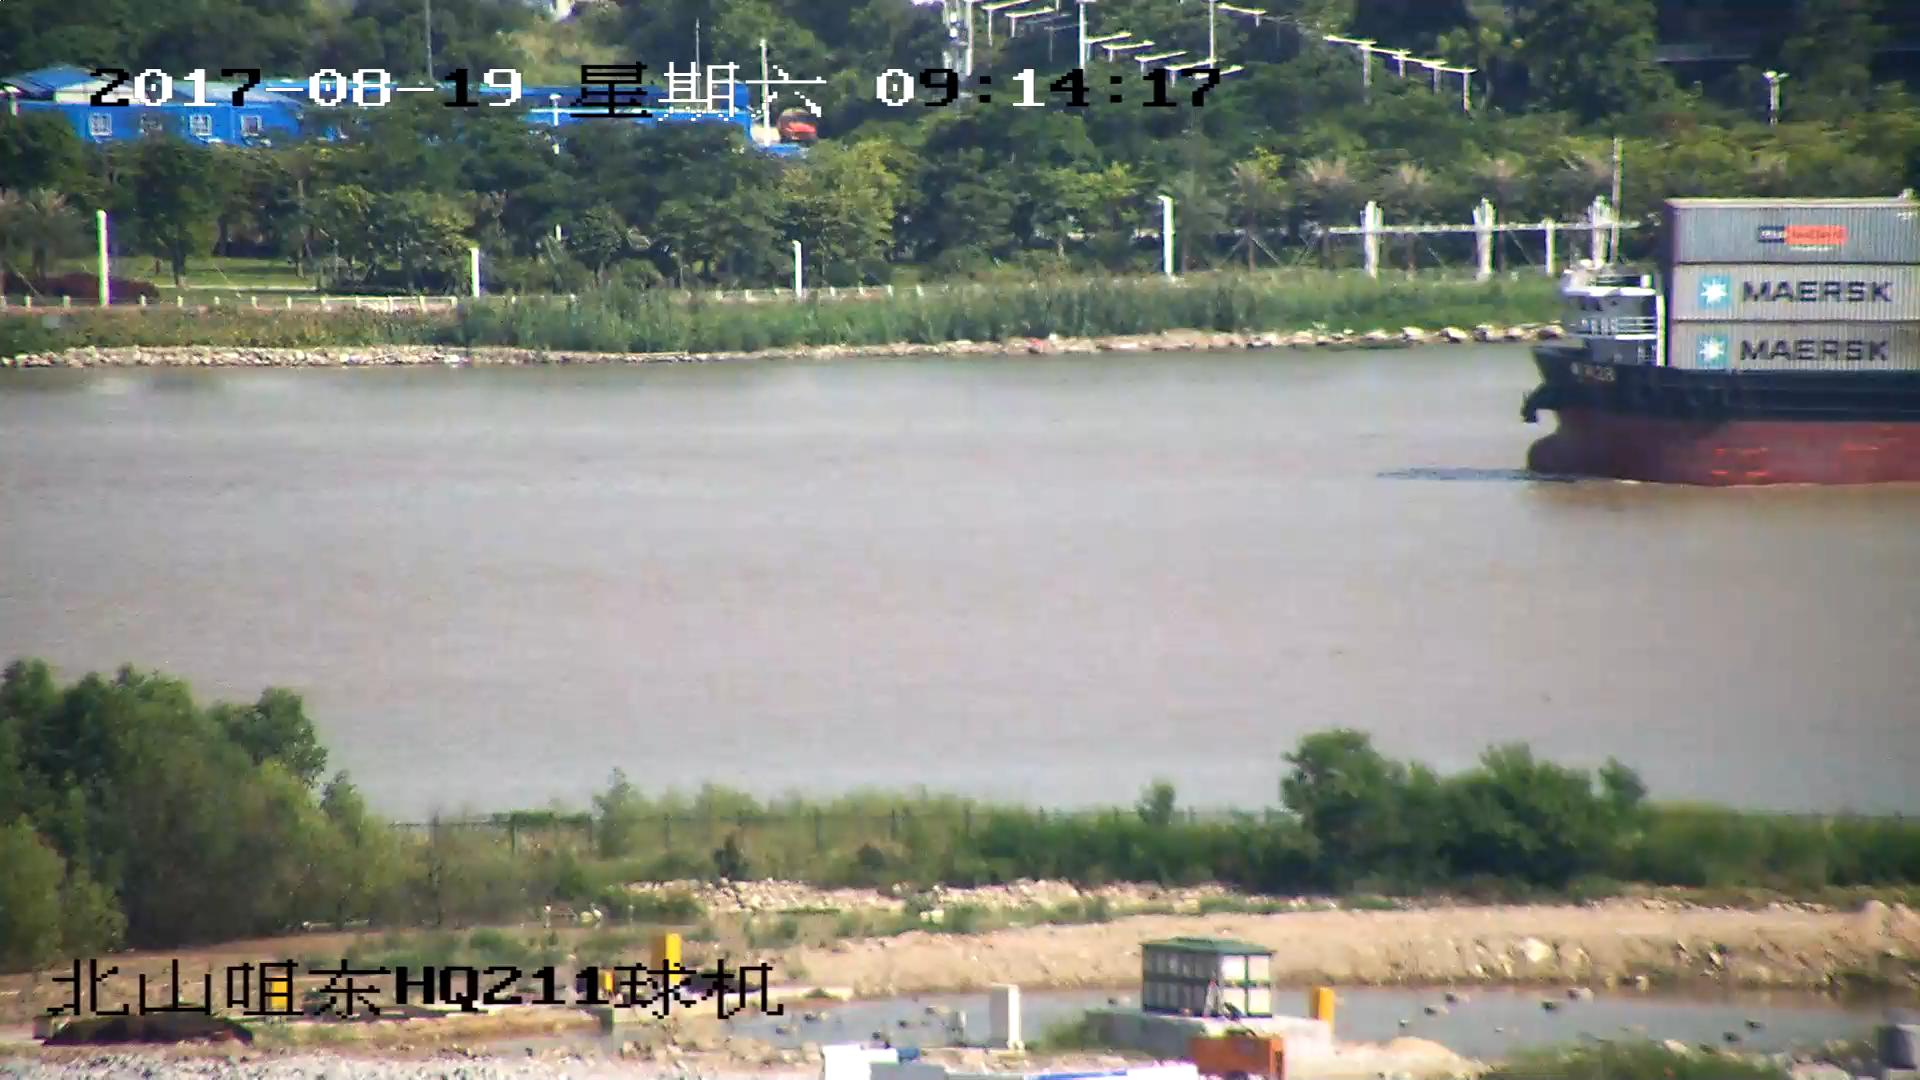container ship: (1516, 192, 1920, 489)
